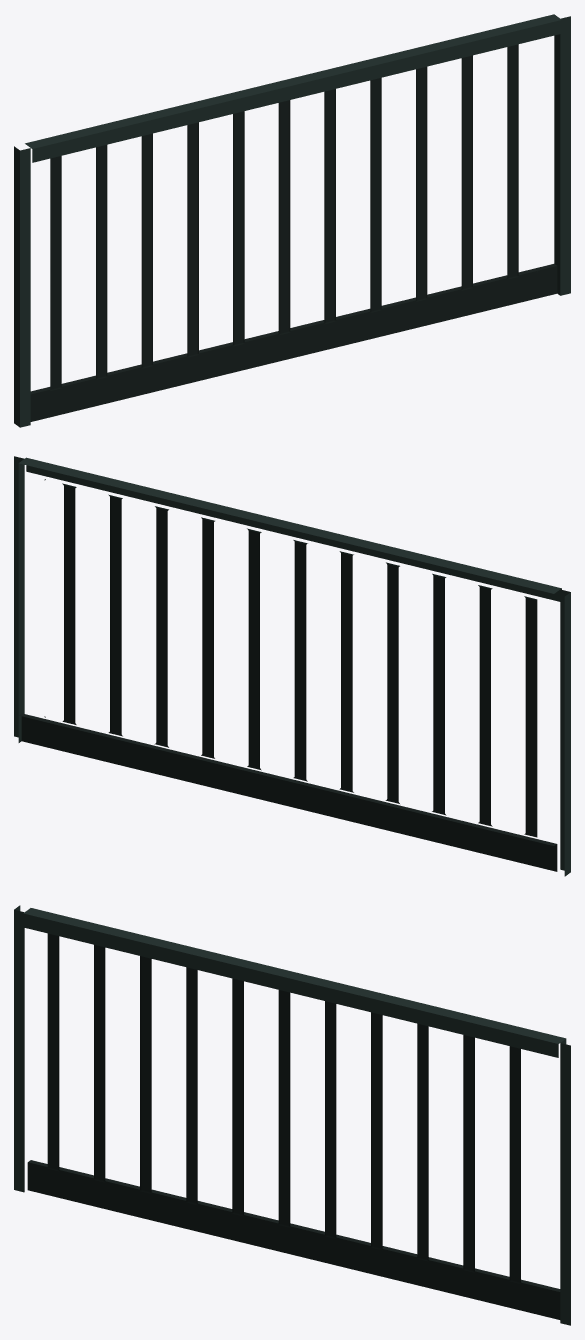
The model's file is SM_Machine_Railing_200x100.fbx.
The picture shows the model from 3 angles, top to bottom: view 1: azimuth 30°, elevation 25°; view 2: azimuth 150°, elevation 25°; view 3: azimuth 330°, elevation 25°; orthographic projection.
Visible parts, largest first — view 1: SM_Machine_Railing_200x100.001; view 2: SM_Machine_Railing_200x100.001; view 3: SM_Machine_Railing_200x100.001.
Part boxes in pixels (x1,y1,x2,y2): SM_Machine_Railing_200x100.001: (14, 14, 570, 427); SM_Machine_Railing_200x100.001: (14, 456, 570, 876); SM_Machine_Railing_200x100.001: (14, 905, 570, 1325).
Size of the model in its own units: 2.08 by 1 by 0.05.
